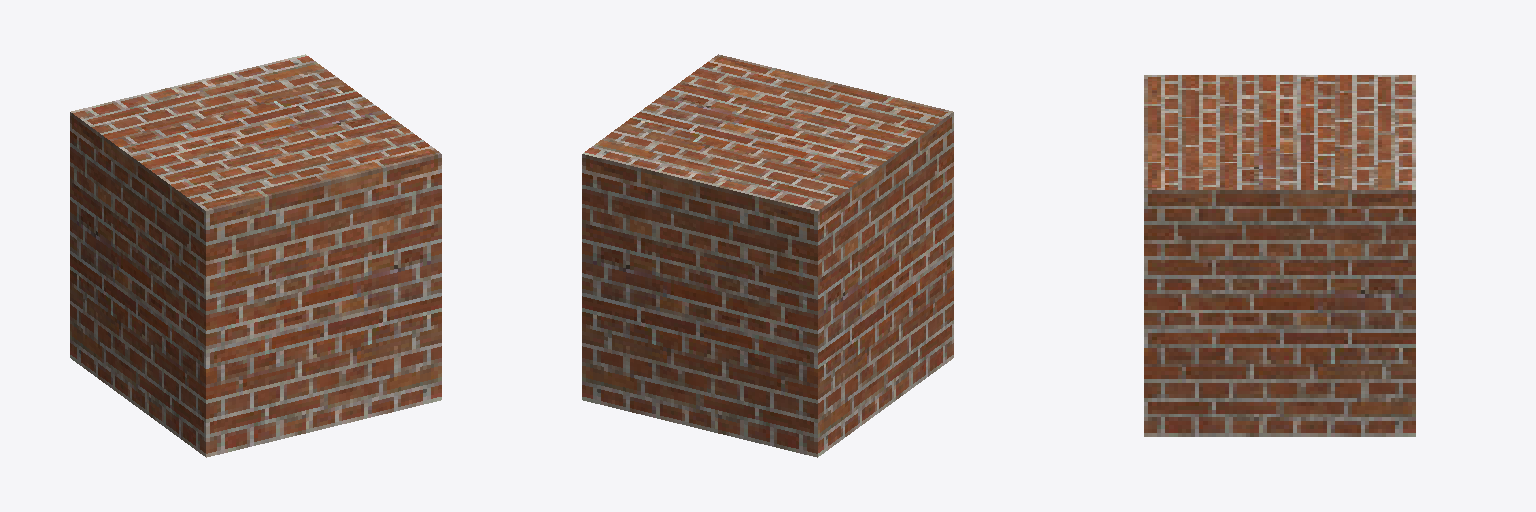
3 renders of one model, left to right at view 1: azimuth 30°, elevation 25°; view 2: azimuth 150°, elevation 25°; view 3: azimuth 270°, elevation 25°, orthographic.
Parts seen in each view (by area): view 1: Cube; view 2: Cube; view 3: Cube.
Boxes of the visible parts, <box> form: Cube: <box>70,54,441,457</box>; Cube: <box>582,54,953,457</box>; Cube: <box>1144,75,1415,436</box>.
Size of the model in its own units: 2 by 2 by 2.
1 materials, 1 textured.